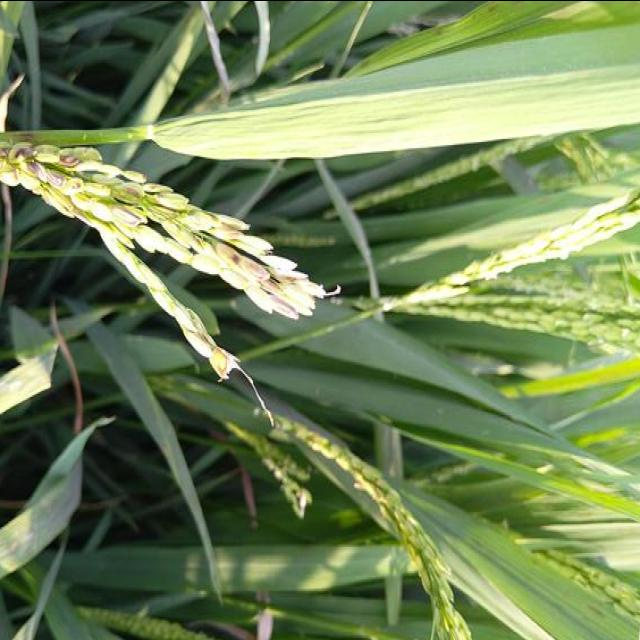Panicle Blight: (212, 241, 297, 317), (32, 161, 65, 188), (0, 146, 34, 156), (3, 167, 22, 184), (120, 208, 143, 221), (60, 153, 79, 165), (281, 273, 305, 281), (157, 193, 184, 200), (125, 187, 144, 196), (227, 229, 242, 237)
